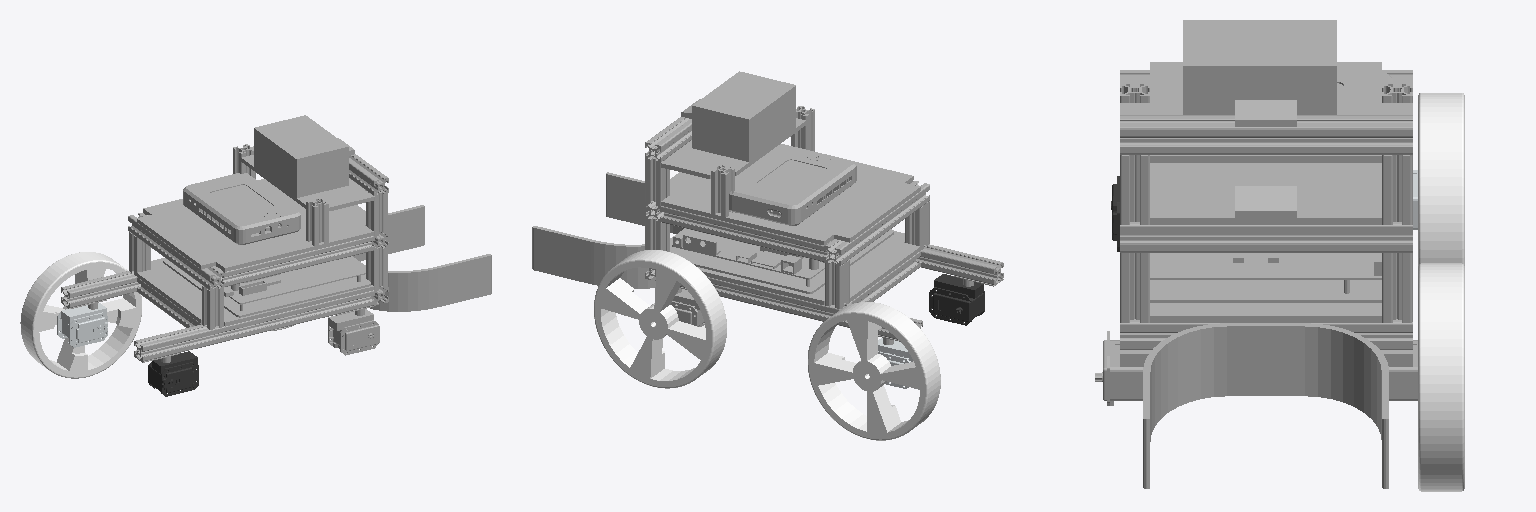
The robot description file, URDF, robot "model20":
<?xml version="1.0" encoding="utf-8"?>
<!-- This URDF was automatically created by SolidWorks to URDF Exporter! Originally created by [author] ([email redacted]) 
     Commit Version: 1.5.1-0-g916b5db  Build Version: 1.5.7152.31018
     For more information, please see http://wiki.ros.org/sw_urdf_exporter -->
<robot
  name="model20">
  <link
    name="base_link">
    <inertial>
      <origin
        xyz="0.0909681098478178 -0.000463217408994888 0.0113158855617286"
        rpy="0 0 0" />
      <mass
        value="3.22961622771044" />
      <inertia
        ixx="0.00580312787317238"
        ixy="1.93643410742754E-06"
        ixz="7.56620702233221E-07"
        iyy="0.00722042643267803"
        iyz="3.8667733562664E-07"
        izz="0.0125136556433195" />
    </inertial>
    <visual>
      <origin
        xyz="0 0 0"
        rpy="0 0 0" />
      <geometry>
        <mesh
          filename="package://model20/meshes/base_link.STL" />
      </geometry>
      <material
        name="">
        <color
          rgba="0.752941176470588 0.752941176470588 0.752941176470588 1" />
      </material>
    </visual>
    <collision>
      <origin
        xyz="0 0 0"
        rpy="0 0 0" />
      <geometry>
        <mesh
          filename="package://model20/meshes/base_link.STL" />
      </geometry>
    </collision>
  </link>
  <link
    name="left_front_wheel_suspension">
    <inertial>
      <origin
        xyz="-0.00185658805884284 -0.0155948984609842 0.0102556772728422"
        rpy="0 0 0" />
      <mass
        value="0.0651133753252895" />
      <inertia
        ixx="1.48802654908116E-05"
        ixy="1.64845451975804E-08"
        ixz="-1.56420031463122E-07"
        iyy="1.75245555055195E-05"
        iyz="-2.96403540336107E-09"
        izz="8.01010024686586E-06" />
    </inertial>
    <visual>
      <origin
        xyz="0 0 0"
        rpy="0 0 0" />
      <geometry>
        <mesh
          filename="package://model20/meshes/left_front_wheel_suspension.STL" />
      </geometry>
      <material
        name="">
        <color
          rgba="0.752941176470588 0.752941176470588 0.752941176470588 1" />
      </material>
    </visual>
    <collision>
      <origin
        xyz="0 0 0"
        rpy="0 0 0" />
      <geometry>
        <mesh
          filename="package://model20/meshes/left_front_wheel_suspension.STL" />
      </geometry>
    </collision>
  </link>
  <joint
    name="left_front_wheel_suspension_joint"
    type="prismatic">
    <origin
      xyz="0.15052 0.083601 -0.062578"
      rpy="1.5708 0 -1.5708" />
    <parent
      link="base_link" />
    <child
      link="left_front_wheel_suspension" />
    <axis
      xyz="0 1 0" />
    <limit
      lower="0"
      upper="0"
      effort="0"
      velocity="0" />
  </joint>
  <link
    name="left_front_wheel">
    <inertial>
      <origin
        xyz="0.0158399891826274 -4.59981459866032E-09 7.99690622610427E-08"
        rpy="0 0 0" />
      <mass
        value="0.22822169800504" />
      <inertia
        ixx="0.000789211576324214"
        ixy="-1.09995507949752E-10"
        ixz="1.91230261060022E-09"
        iyy="0.000410429434291453"
        iyz="-5.55667165925977E-16"
        izz="0.000410429434301075" />
    </inertial>
    <visual>
      <origin
        xyz="0 0 0"
        rpy="0 0 0" />
      <geometry>
        <mesh
          filename="package://model20/meshes/left_front_wheel.STL" />
      </geometry>
      <material
        name="">
        <color
          rgba="1 1 1 1" />
      </material>
    </visual>
    <collision>
      <origin
        xyz="0 0 0"
        rpy="0 0 0" />
      <geometry>
        <mesh
          filename="package://model20/meshes/left_front_wheel.STL" />
      </geometry>
    </collision>
  </link>
  <joint
    name="left_front_wheel_joint"
    type="continuous">
    <origin
      xyz="-0.0137491946648357 -0.0217865728752538 -0.00300006952834253"
      rpy="3.08413603591628 0 3.14159265358979" />
    <parent
      link="left_front_wheel_suspension" />
    <child
      link="left_front_wheel" />
    <axis
      xyz="0.999999999987214 0 0" />
    <limit
      effort="3.1"
      velocity="7" />
  </joint>
  <link
    name="right_front_wheel_suspension">
    <inertial>
      <origin
        xyz="0.00185653619692284 -0.0156302499401892 0.0102556866612721"
        rpy="0 0 0" />
      <mass
        value="0.0651133753251555" />
      <inertia
        ixx="1.48802639086072E-05"
        ixy="1.64845302056301E-08"
        ixz="1.56454773175217E-07"
        iyy="1.75245555054544E-05"
        iyz="2.96411876510217E-09"
        izz="8.01010182899685E-06" />
    </inertial>
    <visual>
      <origin
        xyz="0 0 0"
        rpy="0 0 0" />
      <geometry>
        <mesh
          filename="package://model20/meshes/right_front_wheel_suspension.STL" />
      </geometry>
      <material
        name="">
        <color
          rgba="0.752941176470588 0.752941176470588 0.752941176470588 1" />
      </material>
    </visual>
    <collision>
      <origin
        xyz="0 0 0"
        rpy="0 0 0" />
      <geometry>
        <mesh
          filename="package://model20/meshes/right_front_wheel_suspension.STL" />
      </geometry>
    </collision>
  </link>
  <joint
    name="right_front_wheel_suspension_joint"
    type="prismatic">
    <origin
      xyz="0.15052 -0.086399 -0.062578"
      rpy="1.5708 0 -1.5708" />
    <parent
      link="base_link" />
    <child
      link="right_front_wheel_suspension" />
    <axis
      xyz="0 1 0" />
    <limit
      lower="0"
      upper="0"
      effort="0"
      velocity="0" />
  </joint>
  <link
    name="right_front_wheel">
    <inertial>
      <origin
        xyz="0.015839199018542 1.11022302462516E-16 0"
        rpy="0 0 0" />
      <mass
        value="0.22822169800504" />
      <inertia
        ixx="0.000789211576333899"
        ixy="-3.36343997189347E-20"
        ixz="5.56183874794546E-21"
        iyy="0.000410429434291421"
        iyz="-3.25260651745651E-19"
        izz="0.00041042943429142" />
    </inertial>
    <visual>
      <origin
        xyz="0 0 0"
        rpy="0 0 0" />
      <geometry>
        <mesh
          filename="package://model20/meshes/right_front_wheel.STL" />
      </geometry>
      <material
        name="">
        <color
          rgba="1 1 1 1" />
      </material>
    </visual>
    <collision>
      <origin
        xyz="0 0 0"
        rpy="0 0 0" />
      <geometry>
        <mesh
          filename="package://model20/meshes/right_front_wheel.STL" />
      </geometry>
    </collision>
  </link>
  <joint
    name="right_front_wheel_joint"
    type="continuous">
    <origin
      xyz="0.01375 -0.021785 -0.003"
      rpy="0.1626 0 0" />
    <parent
      link="right_front_wheel_suspension" />
    <child
      link="right_front_wheel" />
    <axis
      xyz="1 0 0" />
    <limit
      effort="3.1"
      velocity="7" />
  </joint>
  <link
    name="camera">
    <inertial>
      <origin
        xyz="0.000445525429401739 -1.10634880442079E-05 0.00129821842499728"
        rpy="0 0 0" />
      <mass
        value="0.0436119955028422" />
      <inertia
        ixx="2.35707059694687E-05"
        ixy="-1.01847086177686E-09"
        ixz="2.1758393011128E-08"
        iyy="4.29479039927907E-06"
        iyz="-8.85046657821648E-10"
        izz="2.21058152194316E-05" />
    </inertial>
    <visual>
      <origin
        xyz="0 0 0"
        rpy="0 0 0" />
      <geometry>
        <mesh
          filename="package://model20/meshes/camera.STL" />
      </geometry>
      <material
        name="">
        <color
          rgba="0.792156862745098 0.819607843137255 0.933333333333333 1" />
      </material>
    </visual>
    <collision>
      <origin
        xyz="0 0 0"
        rpy="0 0 0" />
      <geometry>
        <mesh
          filename="package://model20/meshes/camera.STL" />
      </geometry>
    </collision>
  </link>
  <joint
    name="camera"
    type="fixed">
    <origin
      xyz="0.187883152408986 -0.00139050228123665 0.0574202048500908"
      rpy="0 0.40142572795869 0" />
    <parent
      link="base_link" />
    <child
      link="camera" />
    <axis
      xyz="0 0 0" />
  </joint>
  <link
    name="camera2">
    <inertial>
      <origin
        xyz="0.000445525266833557 -1.10639236487395E-05 0.00129821764747487"
        rpy="0 0 0" />
      <mass
        value="0.0436119958611832" />
      <inertia
        ixx="2.35707063464805E-05"
        ixy="-1.01836626404809E-09"
        ixz="2.1758700708505E-08"
        iyy="4.29479063311557E-06"
        iyz="-8.85041666162716E-10"
        izz="2.21058153836914E-05" />
    </inertial>
    <visual>
      <origin
        xyz="0 0 0"
        rpy="0 0 0" />
      <geometry>
        <mesh
          filename="package://model20/meshes/camera2.STL" />
      </geometry>
      <material
        name="">
        <color
          rgba="0.792156862745098 0.819607843137255 0.933333333333333 1" />
      </material>
    </visual>
    <collision>
      <origin
        xyz="0 0 0"
        rpy="0 0 0" />
      <geometry>
        <mesh
          filename="package://model20/meshes/camera2.STL" />
      </geometry>
    </collision>
  </link>
  <joint
    name="camera2"
    type="fixed">
    <origin
      xyz="0.184246194713152 -0.00139050228123667 0.123169082523395"
      rpy="0 0.174532925199424 0" />
    <parent
      link="base_link" />
    <child
      link="camera2" />
    <axis
      xyz="0 0 0" />
  </joint>
  <link
    name="lidar">
    <inertial>
      <origin
        xyz="-0.00868778989475816 -0.00242014065371565 -0.0287648859066119"
        rpy="0 0 0" />
      <mass
        value="0.0730845706063433" />
      <inertia
        ixx="1.95808756057989E-05"
        ixy="-1.03933750894078E-07"
        ixz="4.28391241178119E-07"
        iyy="2.41250086761113E-05"
        iyz="-9.4271002259946E-09"
        izz="4.14184522411216E-05" />
    </inertial>
    <visual>
      <origin
        xyz="0 0 0"
        rpy="0 0 0" />
      <geometry>
        <mesh
          filename="package://model20/meshes/lidar.STL" />
      </geometry>
      <material
        name="">
        <color
          rgba="0.792156862745098 0.819607843137255 0.933333333333333 1" />
      </material>
    </visual>
    <collision>
      <origin
        xyz="0 0 0"
        rpy="0 0 0" />
      <geometry>
        <mesh
          filename="package://model20/meshes/lidar.STL" />
      </geometry>
    </collision>
  </link>
  <joint
    name="lidar_joint"
    type="fixed">
    <origin
      xyz="0.119259482420036 -0.0091960486691496 0.191917816796912"
      rpy="0 0 0" />
    <parent
      link="base_link" />
    <child
      link="lidar" />
    <axis
      xyz="0 0 0" />
  </joint>
  <link
    name="imu">
    <inertial>
      <origin
        xyz="-0.0307407972140711 0.0490477681843309 -0.0509999999999956"
        rpy="0 0 0" />
      <mass
        value="0.000510000000000001" />
      <inertia
        ixx="5.31250000000002E-09"
        ixy="-7.37257477290141E-26"
        ixz="-3.69426294538431E-27"
        iyy="5.31250000000002E-09"
        iyz="-2.21177243187046E-26"
        izz="8.50000000000004E-09" />
    </inertial>
    <visual>
      <origin
        xyz="0 0 0"
        rpy="0 0 0" />
      <geometry>
        <mesh
          filename="package://model20/meshes/imu.STL" />
      </geometry>
      <material
        name="">
        <color
          rgba="1 1 1 1" />
      </material>
    </visual>
    <collision>
      <origin
        xyz="0 0 0"
        rpy="0 0 0" />
      <geometry>
        <mesh
          filename="package://model20/meshes/imu.STL" />
      </geometry>
    </collision>
  </link>
  <joint
    name="imu"
    type="fixed">
    <origin
      xyz="0.119259482420036 -0.0091960486691496 0.191917816796912"
      rpy="0 0 0" />
    <parent
      link="base_link" />
    <child
      link="imu" />
    <axis
      xyz="0 0 0" />
  </joint>
  <link
    name="left_rear_wheel_suspension">
    <inertial>
      <origin
        xyz="0.0115201581520794 0.0155948984609685 -0.00185653619692294"
        rpy="0 0 0" />
      <mass
        value="0.0651133753251553" />
      <inertia
        ixx="8.01010182899681E-06"
        ixy="2.96411876510212E-09"
        ixz="-1.56454773175199E-07"
        iyy="1.75245555054544E-05"
        iyz="-1.64845302056277E-08"
        izz="1.48802639086072E-05" />
    </inertial>
    <visual>
      <origin
        xyz="0 0 0"
        rpy="0 0 0" />
      <geometry>
        <mesh
          filename="package://model20/meshes/left_rear_wheel_suspension.STL" />
      </geometry>
      <material
        name="">
        <color
          rgba="0.898039215686275 0.917647058823529 0.929411764705882 1" />
      </material>
    </visual>
    <collision>
      <origin
        xyz="0 0 0"
        rpy="0 0 0" />
      <geometry>
        <mesh
          filename="package://model20/meshes/left_rear_wheel_suspension.STL" />
      </geometry>
    </collision>
  </link>
  <joint
    name="left_rear_wheel_suspension_joint"
    type="prismatic">
    <origin
      xyz="-0.10948 0.083602 -0.062578"
      rpy="-1.5708 0 3.1416" />
    <parent
      link="base_link" />
    <child
      link="left_rear_wheel_suspension" />
    <axis
      xyz="0 1 0" />
    <limit
      lower="0"
      upper="0"
      effort="0"
      velocity="0" />
  </joint>
  <link
    name="left_rear_wheel">
    <inertial>
      <origin
        xyz="0.015839199018542 1.11022302462516E-16 0"
        rpy="0 0 0" />
      <mass
        value="0.22822169800504" />
      <inertia
        ixx="0.000789211576333901"
        ixy="1.94747965711215E-21"
        ixz="-8.54684117566858E-21"
        iyy="0.000410429434291422"
        iyz="-3.52365706057789E-19"
        izz="0.00041042943429142" />
    </inertial>
    <visual>
      <origin
        xyz="0 0 0"
        rpy="0 0 0" />
      <geometry>
        <mesh
          filename="package://model20/meshes/left_rear_wheel.STL" />
      </geometry>
      <material
        name="">
        <color
          rgba="1 1 1 1" />
      </material>
    </visual>
    <collision>
      <origin
        xyz="0 0 0"
        rpy="0 0 0" />
      <geometry>
        <mesh
          filename="package://model20/meshes/left_rear_wheel.STL" />
      </geometry>
    </collision>
  </link>
  <joint
    name="left_rear_wheel_joint"
    type="continuous">
    <origin
      xyz="-0.001 0.021787 -0.01375"
      rpy="1.9626 1.5708 0" />
    <parent
      link="left_rear_wheel_suspension" />
    <child
      link="left_rear_wheel" />
    <axis
      xyz="1 0 0" />
  </joint>
  <link
    name="right_rear_wheel_suspension">
    <inertial>
      <origin
        xyz="-0.0156302499401892 -0.0115201581520794 -0.00185653619692288"
        rpy="0 0 0" />
      <mass
        value="0.0651133753251555" />
      <inertia
        ixx="1.75245555054544E-05"
        ixy="-2.96411876510893E-09"
        ixz="-1.64845302056281E-08"
        iyy="8.01010182899684E-06"
        iyz="1.56454773175206E-07"
        izz="1.48802639086072E-05" />
    </inertial>
    <visual>
      <origin
        xyz="0 0 0"
        rpy="0 0 0" />
      <geometry>
        <mesh
          filename="package://model20/meshes/right_rear_wheel_suspension.STL" />
      </geometry>
      <material
        name="">
        <color
          rgba="0.298039215686275 0.298039215686275 0.298039215686275 1" />
      </material>
    </visual>
    <collision>
      <origin
        xyz="0 0 0"
        rpy="0 0 0" />
      <geometry>
        <mesh
          filename="package://model20/meshes/right_rear_wheel_suspension.STL" />
      </geometry>
    </collision>
  </link>
  <joint
    name="right_rear_wheel_suspension_joint"
    type="prismatic">
    <origin
      xyz="-0.10948 -0.086399 -0.062578"
      rpy="1.5708 -1.5708 0" />
    <parent
      link="base_link" />
    <child
      link="right_rear_wheel_suspension" />
    <axis
      xyz="1 0 0" />
    <limit
      lower="0"
      upper="0"
      effort="0"
      velocity="0" />
  </joint>
  <link
    name="right_rear_wheel">
    <inertial>
      <origin
        xyz="0.015839199018542 9.71445146547012E-17 0"
        rpy="0 0 0" />
      <mass
        value="0.22822169800504" />
      <inertia
        ixx="0.0007892115763339"
        ixy="2.43499399225249E-21"
        ixz="8.65985780972721E-21"
        iyy="0.000410429434291421"
        iyz="-3.09567691357026E-19"
        izz="0.00041042943429142" />
    </inertial>
    <visual>
      <origin
        xyz="0 0 0"
        rpy="0 0 0" />
      <geometry>
        <mesh
          filename="package://model20/meshes/right_rear_wheel.STL" />
      </geometry>
      <material
        name="">
        <color
          rgba="1 1 1 1" />
      </material>
    </visual>
    <collision>
      <origin
        xyz="0 0 0"
        rpy="0 0 0" />
      <geometry>
        <mesh
          filename="package://model20/meshes/right_rear_wheel.STL" />
      </geometry>
    </collision>
  </link>
  <joint
    name="right_rear_wheel_joint"
    type="continuous">
    <origin
      xyz="-0.021785 0.001 -0.01375"
      rpy="1.5708 1.5708 0" />
    <parent
      link="right_rear_wheel_suspension" />
    <child
      link="right_rear_wheel" />
    <axis
      xyz="1 0 0" />
  </joint>
</robot>

--- Render facts (derived) ---
3 views of the same robot in one strip: view 1: azimuth 30°, elevation 25°; view 2: azimuth 150°, elevation 25°; view 3: azimuth 270°, elevation 25° (orthographic).
Model model20 with 13 links and 12 joints (4 continuous, 4 prismatic, 4 fixed), rooted at base_link, posed every joint at zero.
Visible links, largest first — view 1: base_link, left_rear_wheel, right_front_wheel_suspension, right_rear_wheel_suspension, left_rear_wheel_suspension; view 2: base_link, left_front_wheel, left_rear_wheel, right_rear_wheel_suspension, left_front_wheel_suspension, left_rear_wheel_suspension; view 3: base_link, left_front_wheel, left_rear_wheel, right_front_wheel_suspension, left_front_wheel_suspension.
Link boxes in pixels (x1,y1,x2,y2): base_link: (61, 115, 491, 362); left_rear_wheel: (20, 252, 141, 378); right_front_wheel_suspension: (328, 309, 379, 355); right_rear_wheel_suspension: (148, 351, 198, 396); left_rear_wheel_suspension: (57, 303, 107, 347); base_link: (532, 71, 1003, 344); left_front_wheel: (594, 250, 726, 388); left_rear_wheel: (808, 302, 940, 440); right_rear_wheel_suspension: (929, 274, 984, 325); left_front_wheel_suspension: (671, 289, 704, 326); left_rear_wheel_suspension: (878, 338, 912, 388); base_link: (1120, 20, 1412, 488); left_front_wheel: (1418, 263, 1464, 491); left_rear_wheel: (1418, 93, 1464, 265); right_front_wheel_suspension: (1095, 331, 1151, 405); left_front_wheel_suspension: (1380, 340, 1417, 400).
Size in the robot's own frame: 0.5135 by 0.2395 by 0.2968 metres.
7 mesh visuals loaded from 13 distinct referenced files (7 binary STL); not drawn: 6 (reference not matched to a file when rendering).